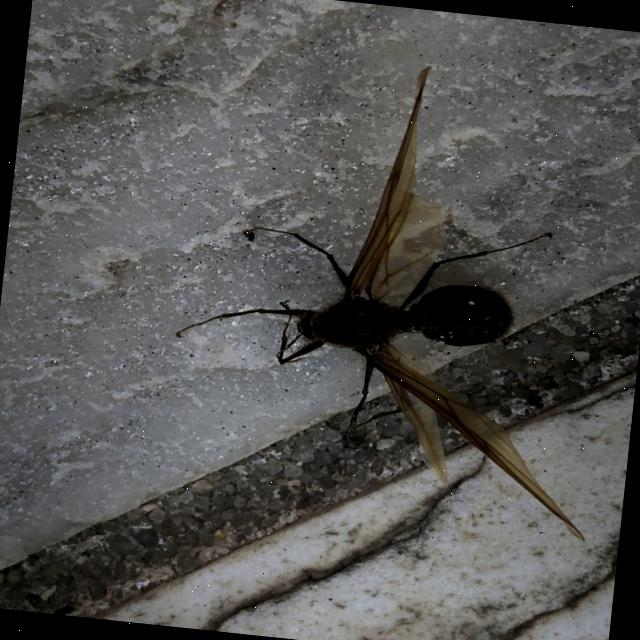Dead-Male-Alate: (158, 42, 632, 541)
